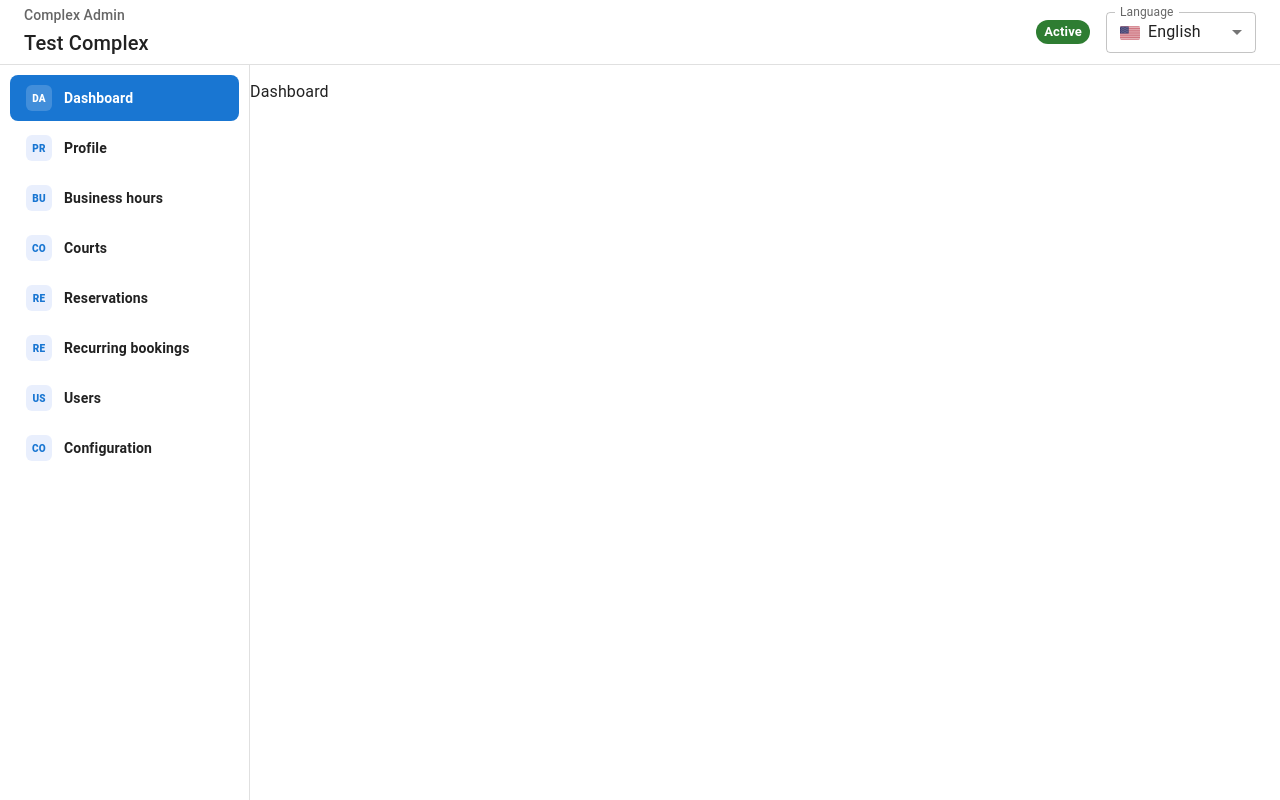
Test: ComplexAdminLayout › updates the active link when navigating to a section
The width and height of the screenshot is (1280, 800).
Click the link "CO Courts". click: (67, 248)
box: [26, 235, 107, 261]
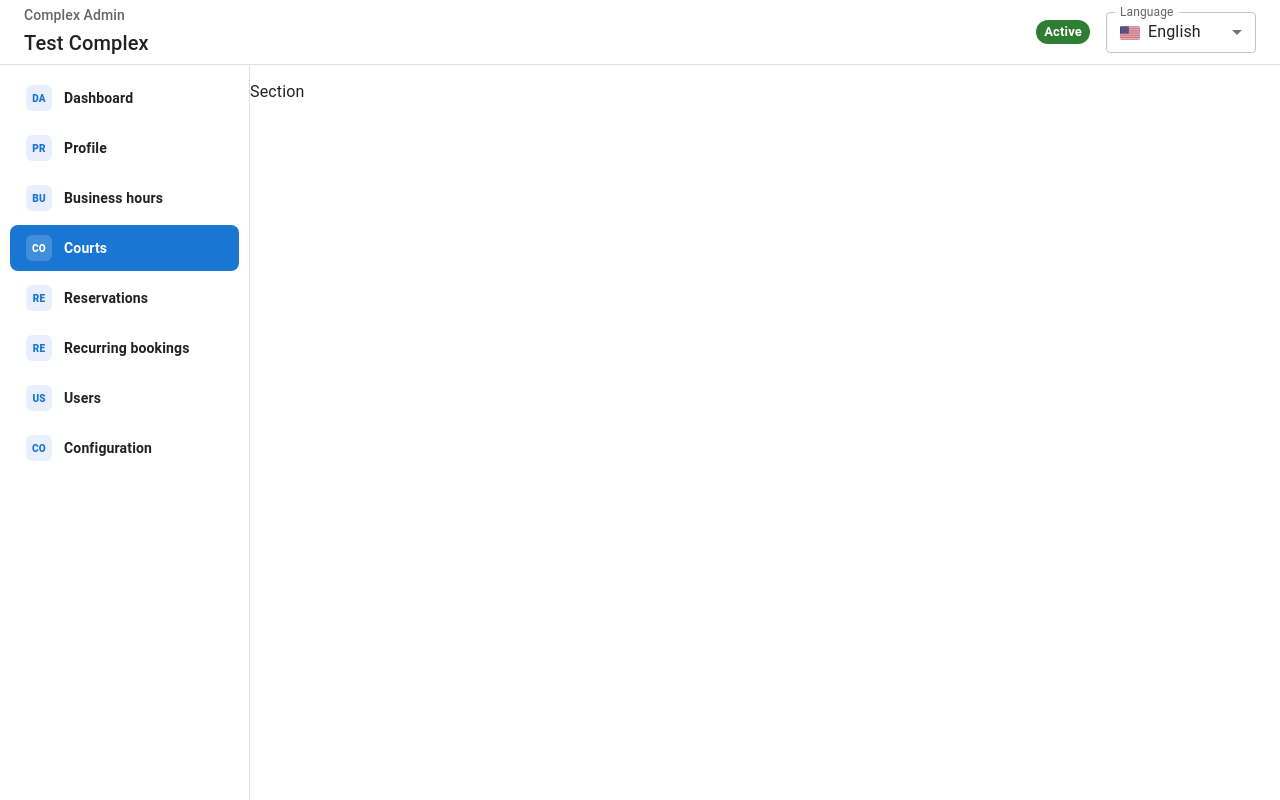
Now the text "Section" is shown, box [250, 82, 304, 101]
